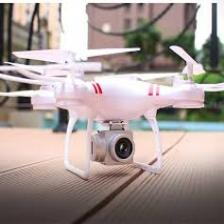drone: (0, 35, 224, 188)
